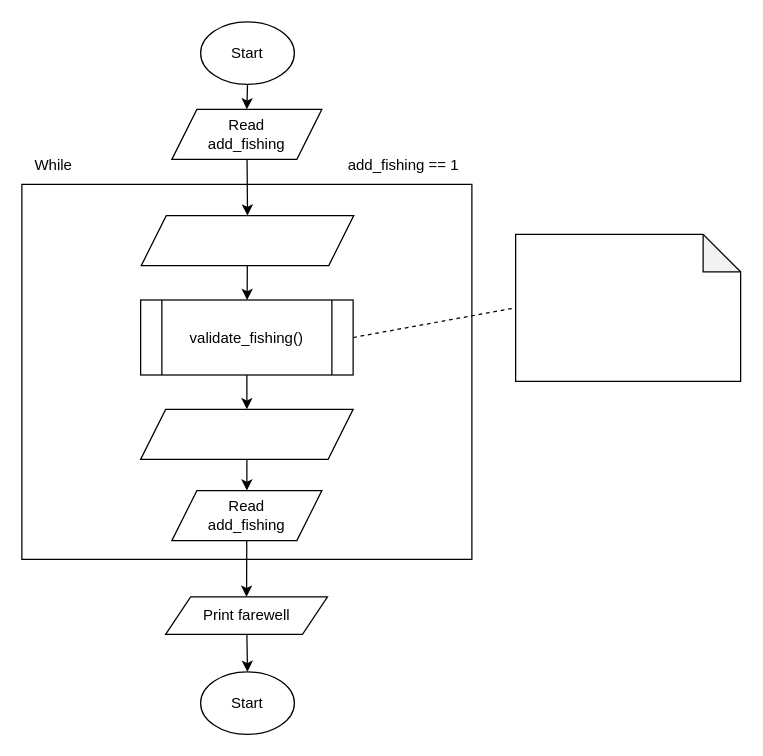
Some shapes in this 763 by 756 pixel diagram are drawn without their labels. The shapes that lost their labels are listed below. From the top down, each one's centre as x and y in pixels, then its label:
point 247,240: Read cant_shrimp
point 627,307: Function: calc_validate_fishing Read : cant_shrimp Return : msg
point 246,433: Print msg
